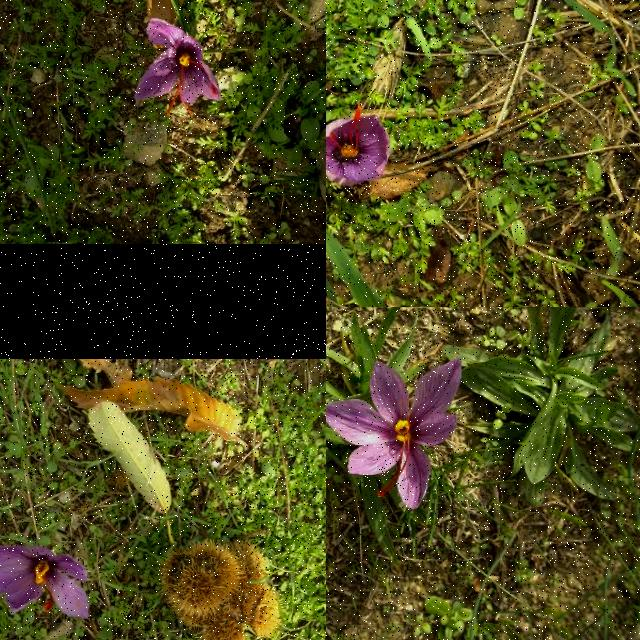flower: (326, 358, 463, 510), (137, 20, 226, 116), (0, 543, 92, 618), (326, 106, 390, 186)
